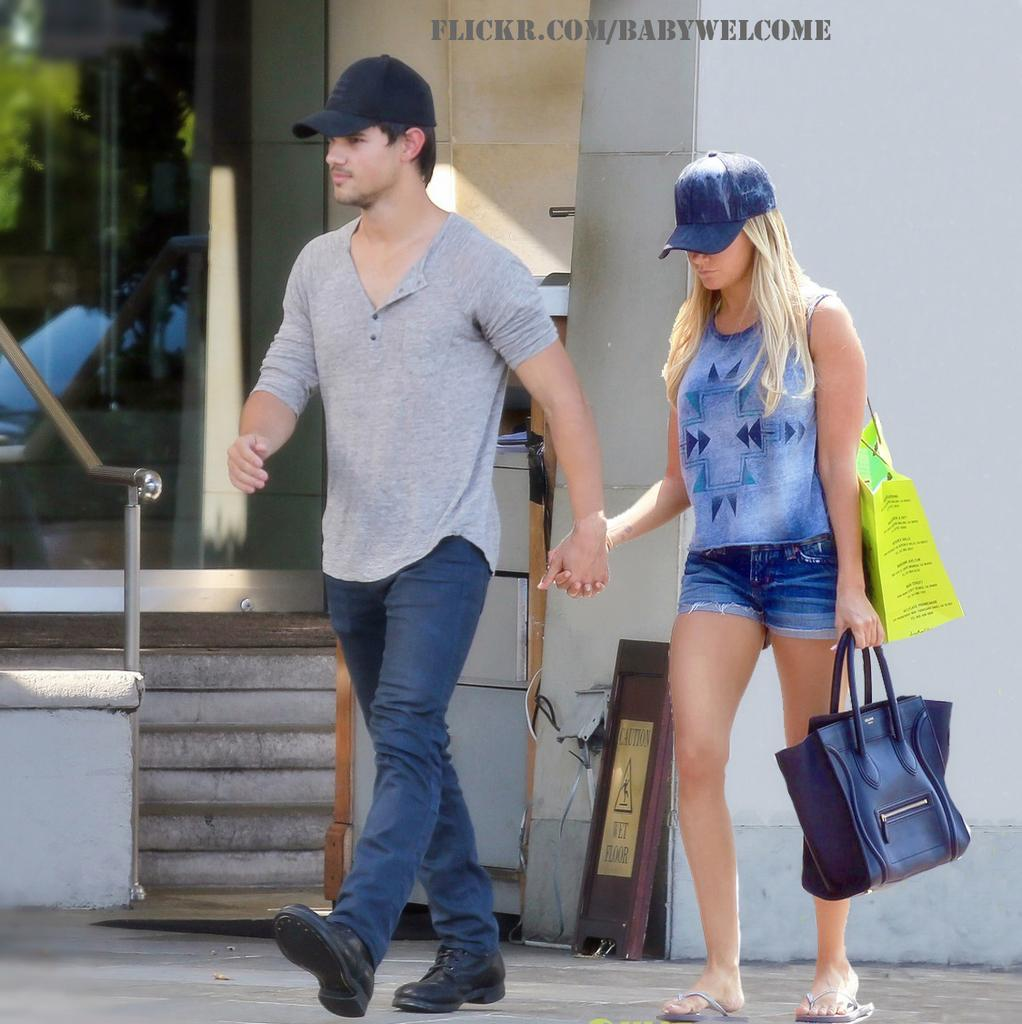Luggage-and-bags: (773, 633, 984, 895), (809, 290, 959, 648)
